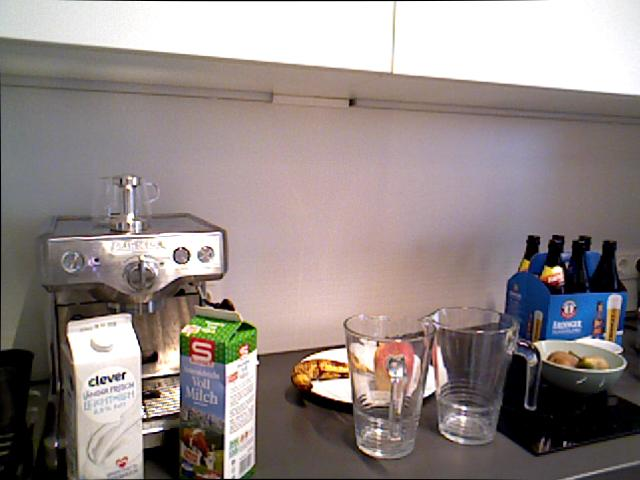bench: (60, 312, 146, 480), (179, 301, 257, 480), (539, 238, 566, 294), (566, 239, 592, 294), (598, 235, 619, 294), (515, 230, 541, 272), (593, 301, 607, 345), (523, 306, 533, 338), (581, 234, 596, 249)
bicycle: (373, 339, 412, 393)
bird: (531, 339, 628, 394)
handbag: (419, 305, 541, 445), (342, 313, 435, 459), (92, 172, 159, 235), (0, 348, 34, 425)
motorcycle: (289, 359, 351, 396)
